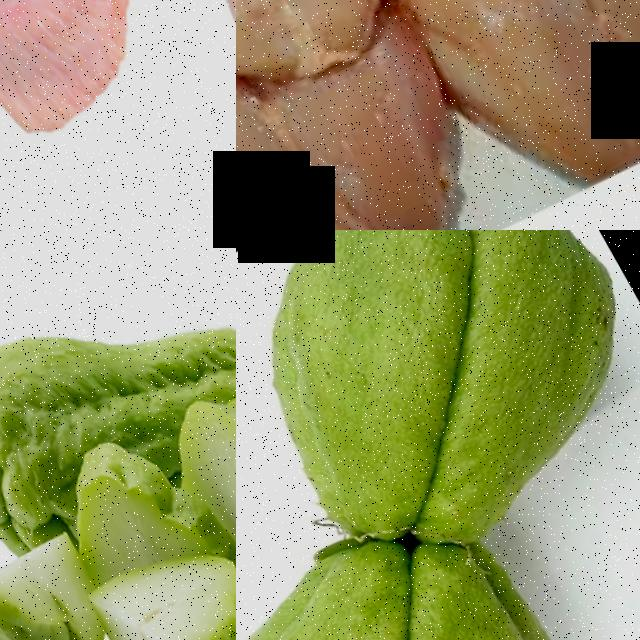chayote: (236, 230, 640, 562), (0, 263, 202, 523), (236, 520, 620, 640)
chicken breast: (236, 20, 519, 230), (415, 0, 640, 229), (236, 0, 430, 108)
chicken wing: (0, 0, 195, 174)
